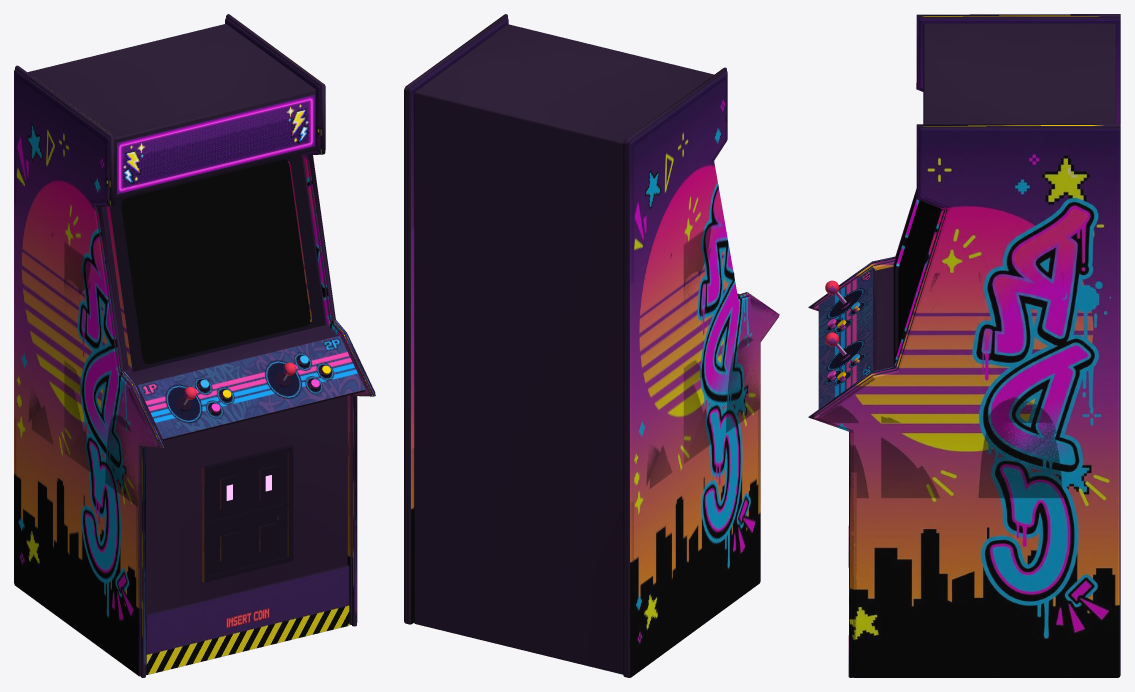
Rendered from arcade-cabinet.glb.
3 renders of one model, left to right at view 1: azimuth 30°, elevation 25°; view 2: azimuth 150°, elevation 25°; view 3: azimuth 270°, elevation 25°, orthographic. The views are drawn at different scales.
Visible parts, largest first — view 1: Cabinet, Screen, Marquee; view 2: Cabinet; view 3: Cabinet, Screen.
Boxes of the visible parts, bbox=[...] form: Cabinet: bbox=[14, 14, 375, 677]; Screen: bbox=[121, 159, 310, 364]; Marquee: bbox=[117, 94, 314, 194]; Cabinet: bbox=[404, 14, 779, 677]; Cabinet: bbox=[808, 14, 1120, 677]; Screen: bbox=[898, 200, 940, 345].
Size of the model in its own units: 0.84 by 1.9 by 0.9739.
4 materials, 2 textured.
